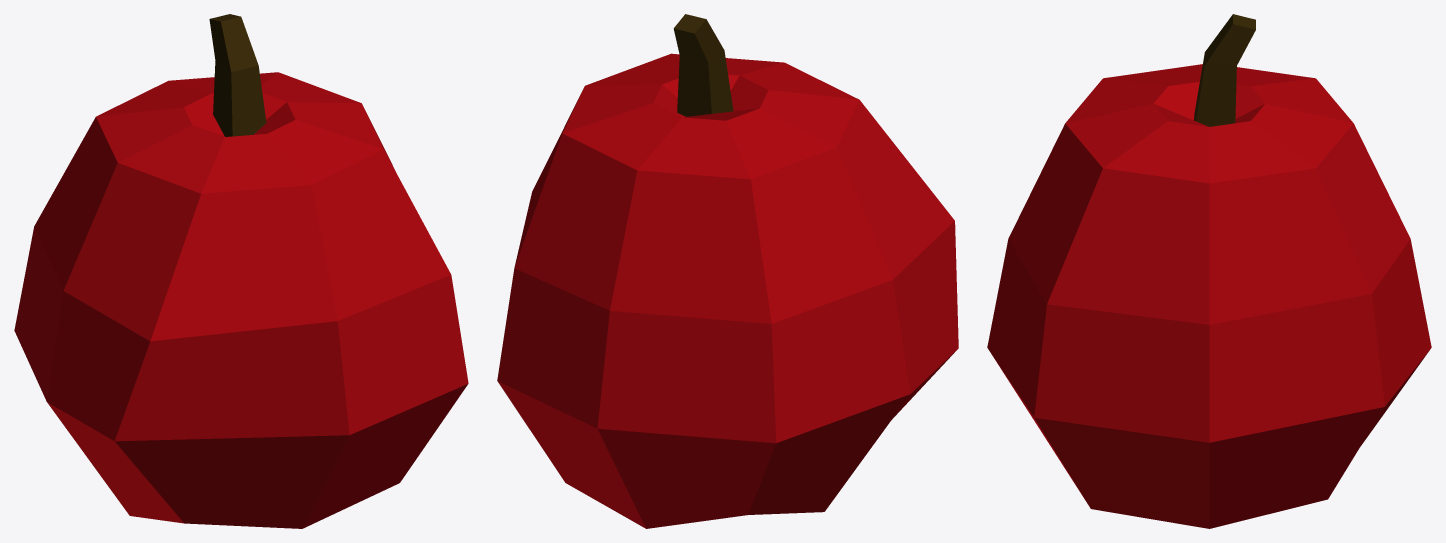
File: Apple.fbx
The picture shows the model from 3 angles, left to right: view 1: azimuth 30°, elevation 25°; view 2: azimuth 150°, elevation 25°; view 3: azimuth 270°, elevation 25°; orthographic projection. The views are drawn at different scales.
Parts seen in each view (by area): view 1: Apple; view 2: Apple; view 3: Apple.
Boxes of the visible parts, x1,y1,x2,y2 form: Apple: [14, 14, 468, 528]; Apple: [497, 14, 958, 528]; Apple: [987, 14, 1431, 528].
Size of the model in its own units: 189 by 216 by 186.
